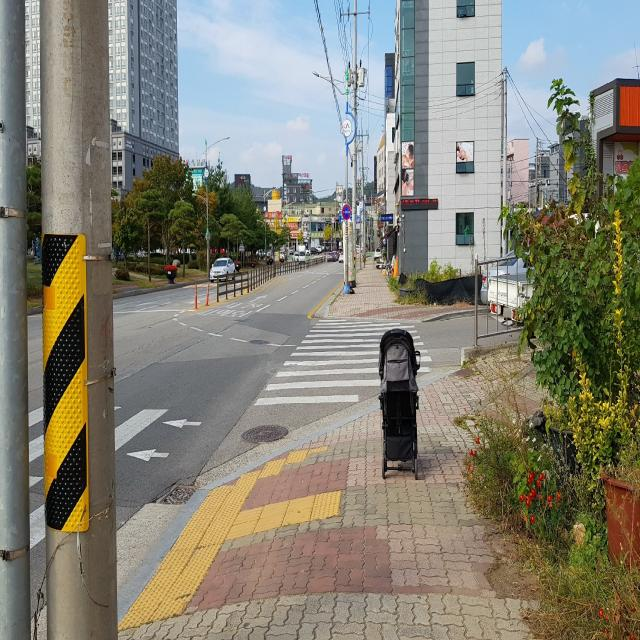횡단보도: (0, 378, 205, 565), (253, 318, 433, 408)
